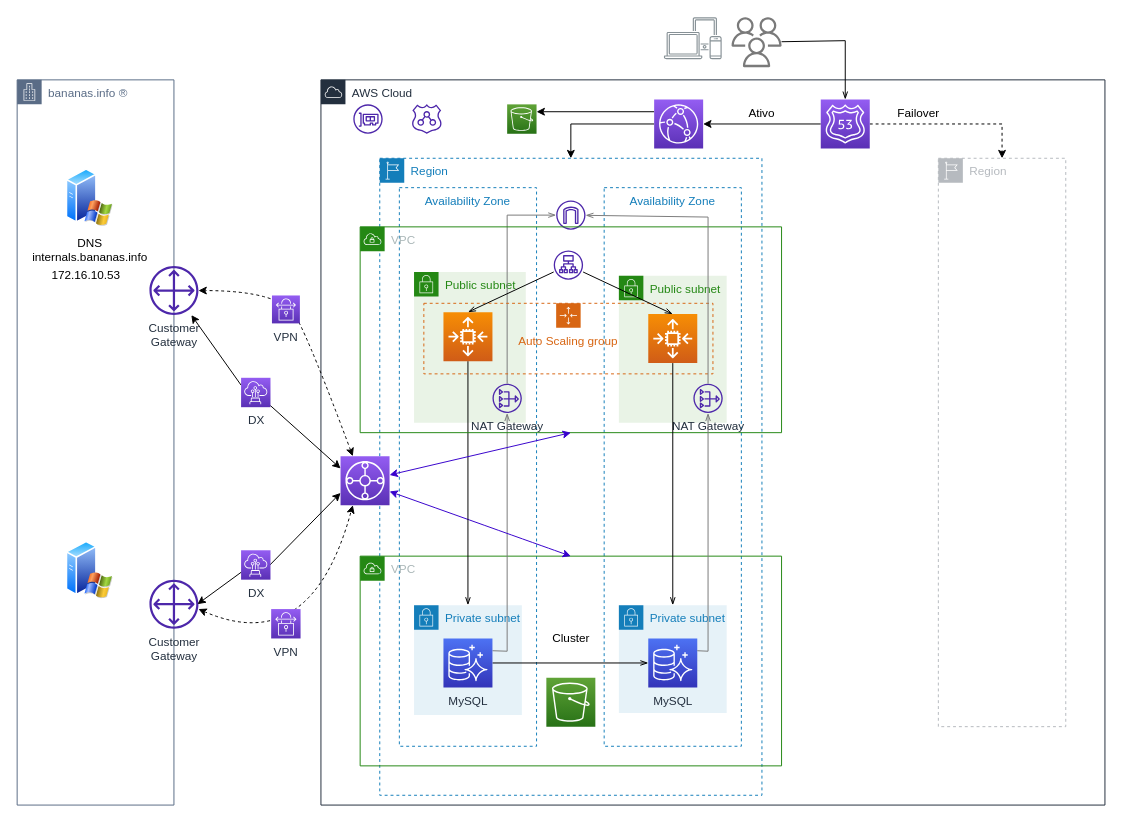
The diagram is 1122 pixels wide and 822 high, and some of its shapes have lost their labels. Each missing label, with the centre of its shape:
10 TB: the point at 570,702
App Load Balancer: the point at 568,264
CDN: the point at 678,123
Dispositivos: the point at 692,38
DNS: the point at 845,123
Internet Gateway: the point at 570,214
outbound: the point at 367,118
Resolver: the point at 426,118
S3: the point at 521,118
Transit Grateway: the point at 365,480
